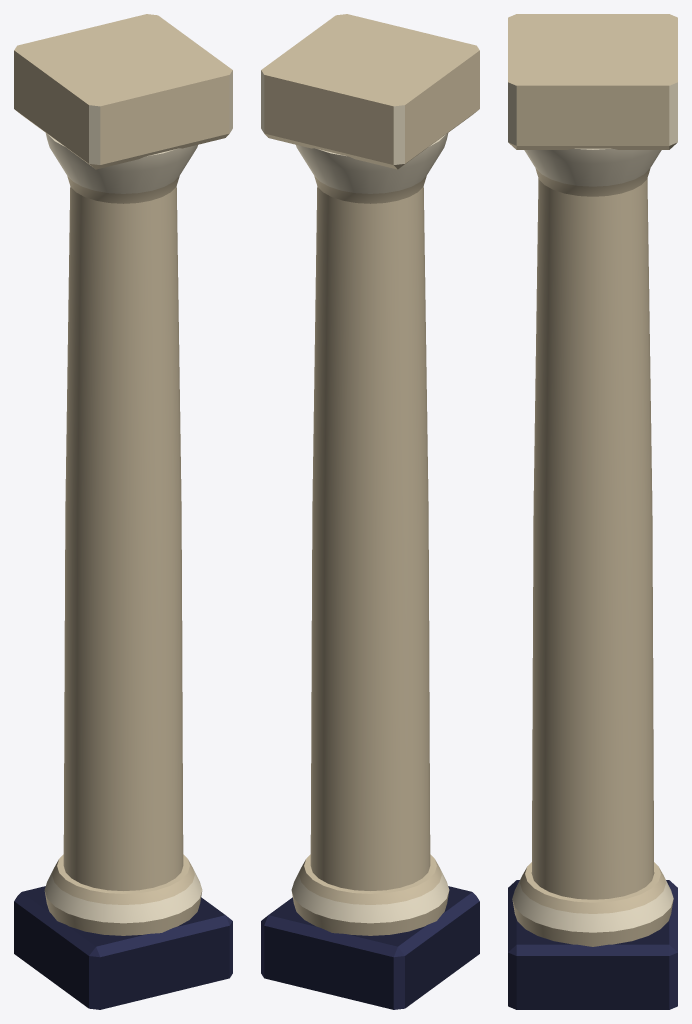
Rendered from Column_2x12.fbx.
3 views of the same model, side by side, from view 1: azimuth 30°, elevation 25°; view 2: azimuth 150°, elevation 25°; view 3: azimuth 270°, elevation 25° (orthographic). The views are drawn at different scales.
Visible parts, largest first — view 1: Column_2x12; view 2: Column_2x12; view 3: Column_2x12.
Part boxes in pixels (x1=…): Column_2x12: x1=14, y1=14, x2=232, y2=1009; Column_2x12: x1=261, y1=14, x2=479, y2=1009; Column_2x12: x1=508, y1=14, x2=677, y2=1009.
Bounding box in the file's own units: 2 × 12 × 2.
1 material, 1 textured.
